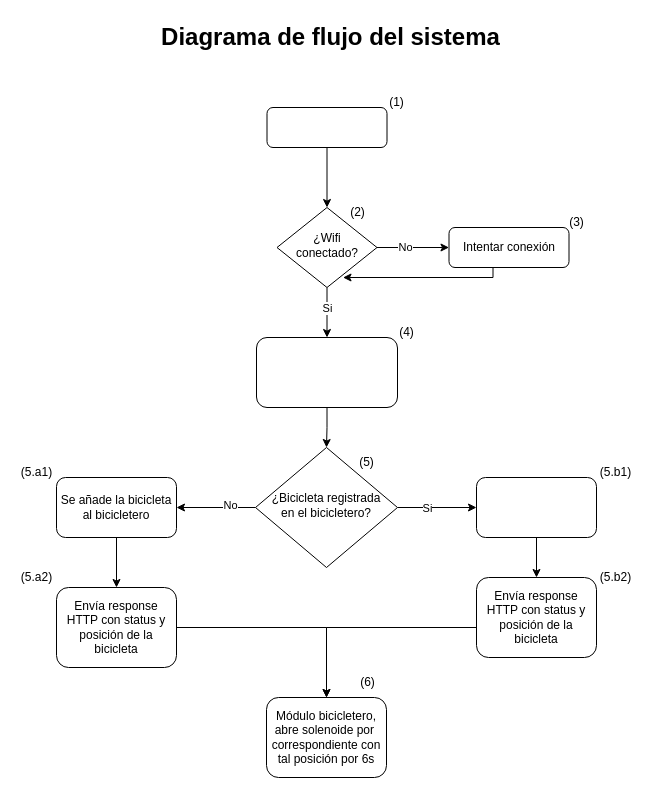
Image size: 652x795. Some labels were removed from this diagram. Here are the shapes that lost their labels. From the top down, the centre of each, then its label:
At point (326, 127): "Se registra lectura de llavero".
At point (327, 372): "Enviar petición POST hacia API".
At point (536, 507): "Se remueve la bicicleta del bicicletero".
